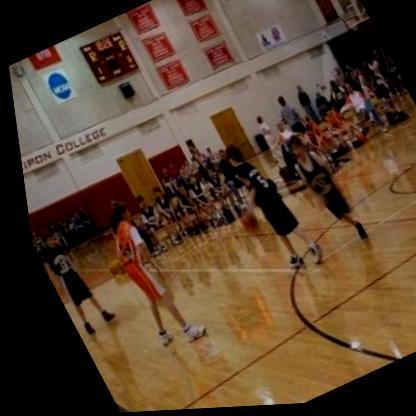basketball: (226, 209, 257, 237)
